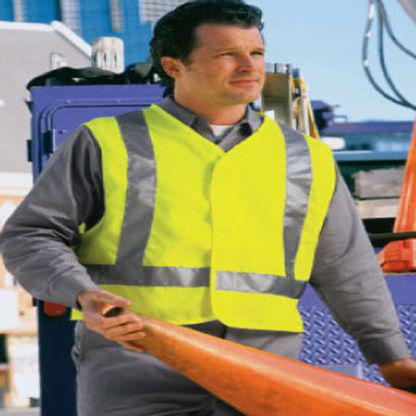vest: (80, 108, 333, 325)
without_helmet: (150, 1, 265, 67)
